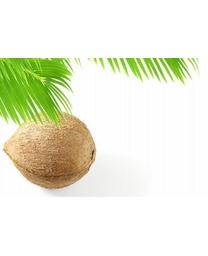coconut: (4, 110, 97, 190)
